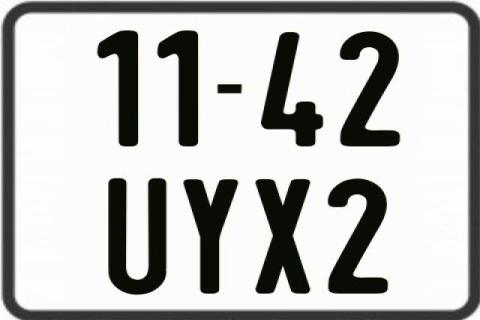0: (259, 30, 322, 148), (326, 178, 390, 294), (338, 30, 398, 148), (156, 30, 201, 148), (96, 29, 138, 145)
U: (108, 178, 170, 296)
X: (254, 178, 310, 298)
Y: (182, 177, 236, 295)
